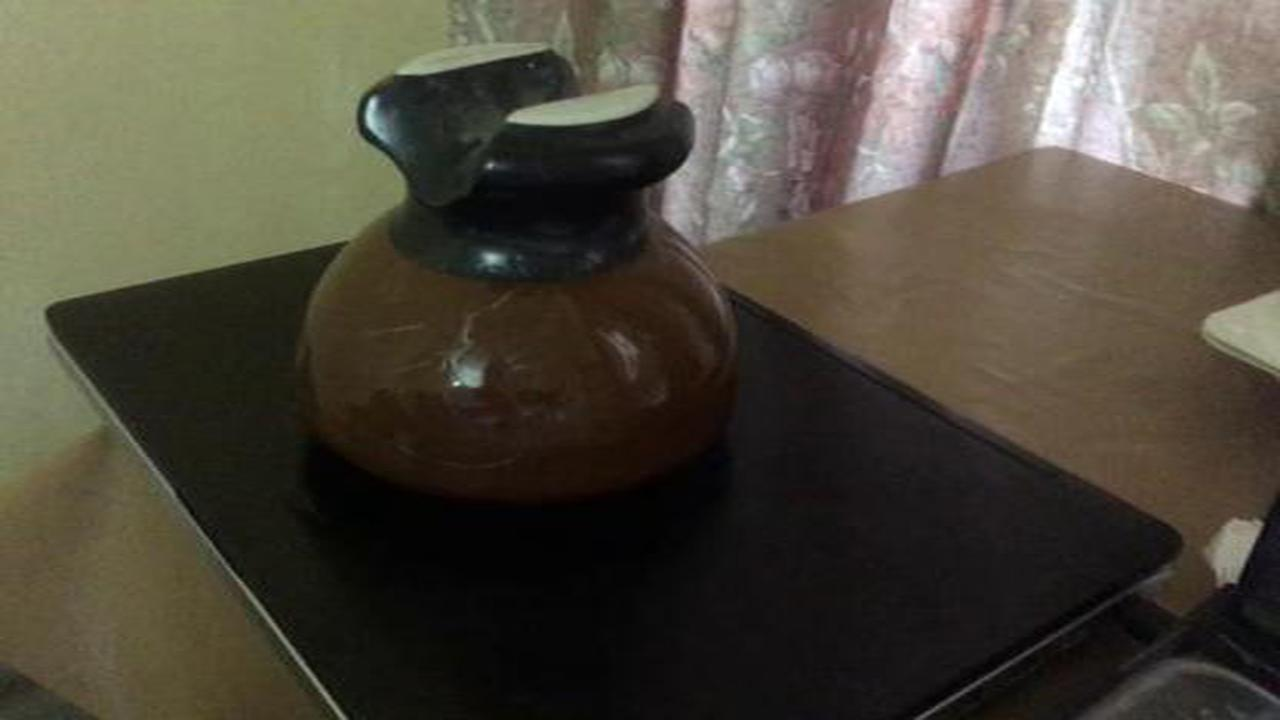insulator_pin: (276, 28, 776, 515)
